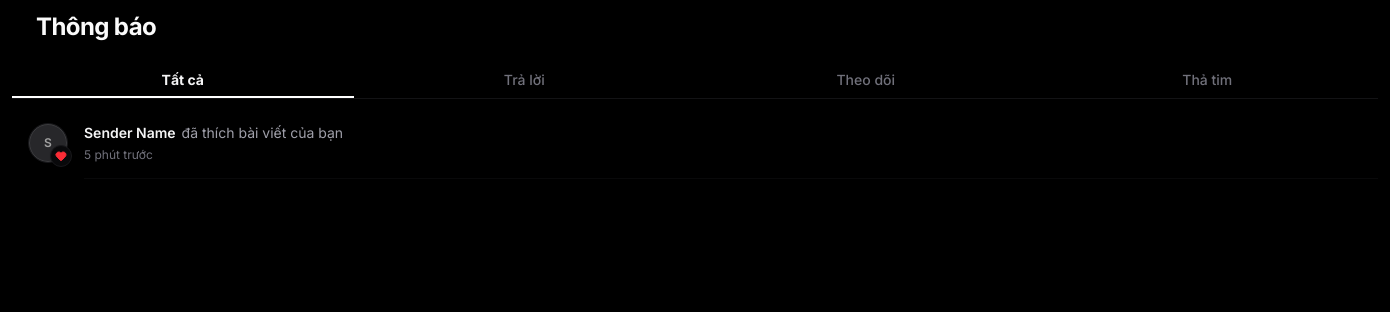
real mode › tabs › an empty tab shows its own message
This screenshot has width=1390, height=312.
Check: the text "đã thích bài viết của bạn" is shown, box x1=182 y1=124 x2=343 y2=141
Click the tab "Theo dõi" at point(866, 81), box x1=695 y1=64 x2=1036 y2=98
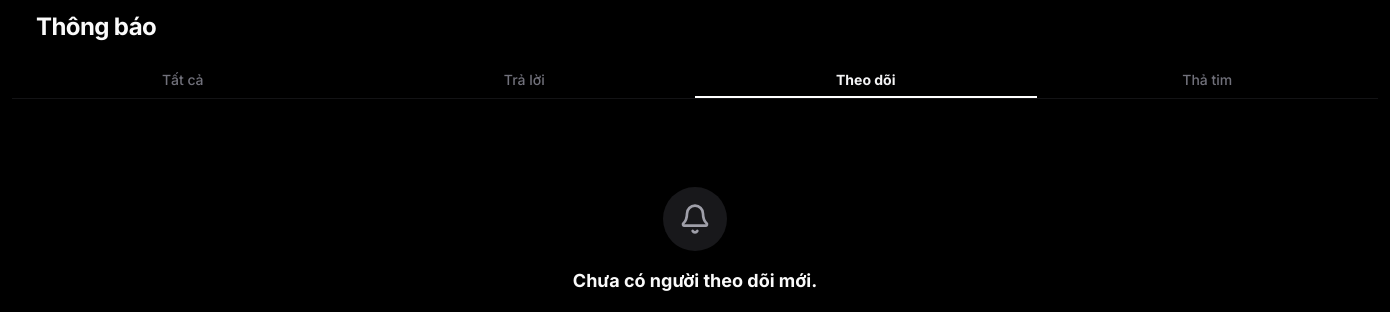
Check: the heading "Chưa có người theo dõi mới." is shown, box x1=573 y1=267 x2=817 y2=295
